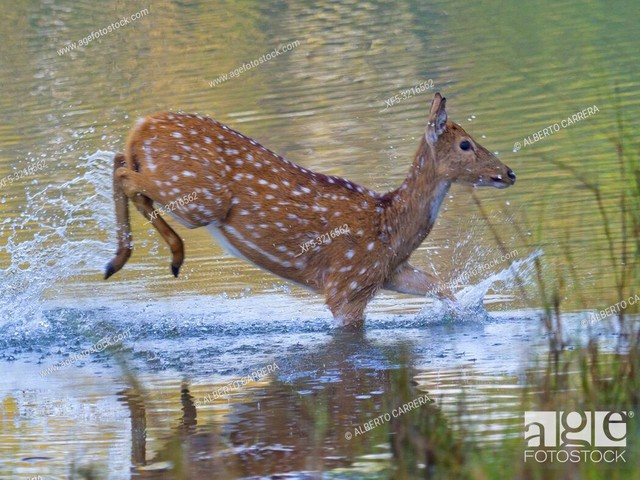deer: (101, 84, 522, 333)
